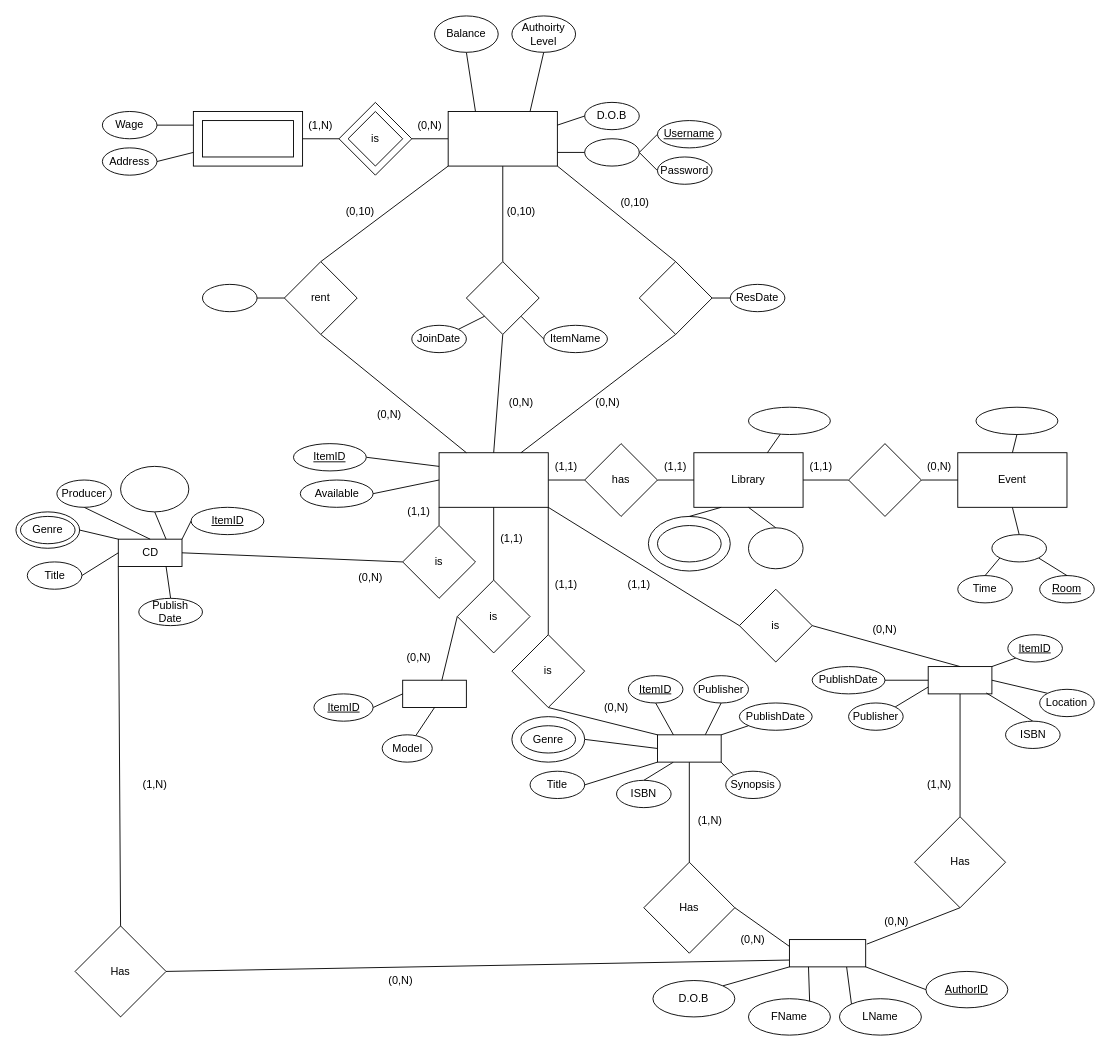
Image size: 1110x1051. Some labels were removed from this diagram. The box of each missing label's shape, as (x1, y1, x2, y2) in pixels:
Author: (789, 939, 866, 967)
Book: (657, 734, 721, 762)
CDID (Barcode): (120, 465, 189, 512)
Closed Dates: (657, 525, 721, 562)
DueDate: (202, 283, 257, 312)
Employee: (202, 120, 293, 157)
EventName: (975, 406, 1058, 435)
Hosts: (848, 443, 921, 516)
Item: (438, 452, 548, 507)
Laptop: (402, 679, 466, 708)
LibraryName: (748, 406, 830, 435)
Login: (584, 138, 639, 166)
Map: (927, 666, 992, 694)
reserve: (638, 261, 712, 334)
RoomRes: (991, 534, 1046, 562)
Time / Hours: (748, 527, 803, 569)
User: (447, 111, 557, 166)
waitlist: (465, 261, 539, 334)
